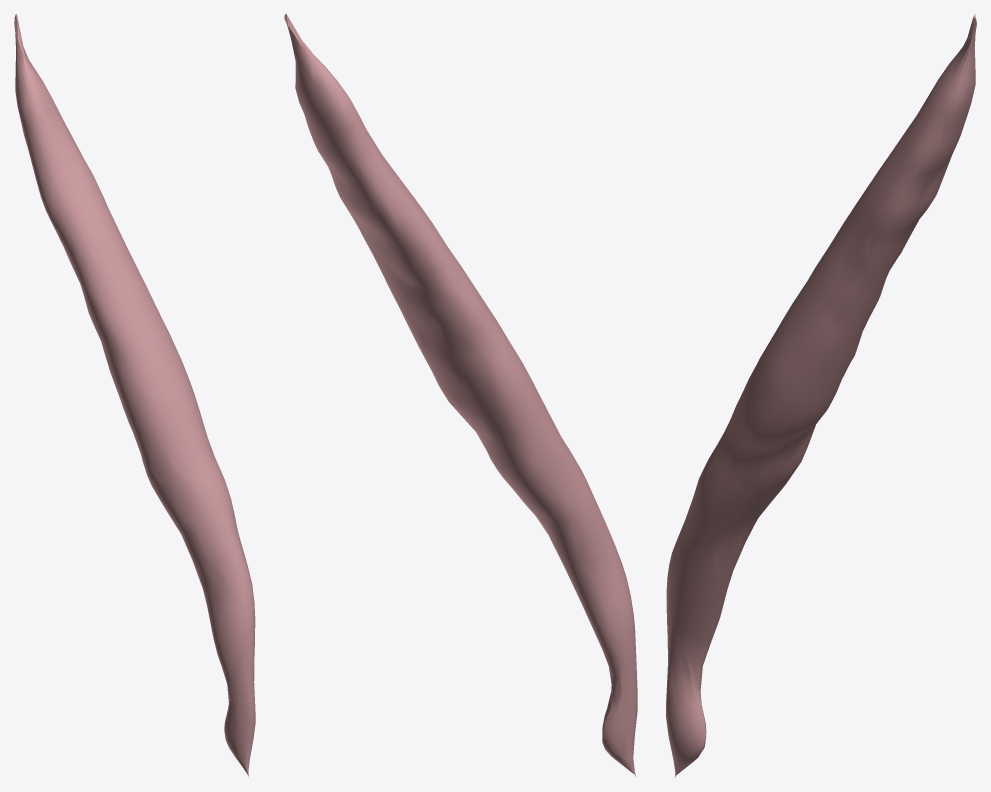
The model's file is fma46225_mm1968.glb.
3 views of the same model, side by side, from view 1: azimuth 90°, elevation 25°; view 2: azimuth 150°, elevation 25°; view 3: azimuth 270°, elevation 25° (orthographic). The views are drawn at different scales.
Parts seen in each view (by area): view 1: FMA46225_MM1968; view 2: FMA46225_MM1968; view 3: FMA46225_MM1968.
Part boxes in pixels (<box>): FMA46225_MM1968: <box>14,14,255,776</box>; FMA46225_MM1968: <box>284,14,637,776</box>; FMA46225_MM1968: <box>666,14,976,776</box>.
Bounding box in the file's own units: 0.0175 × 0.0634 × 0.0205.
